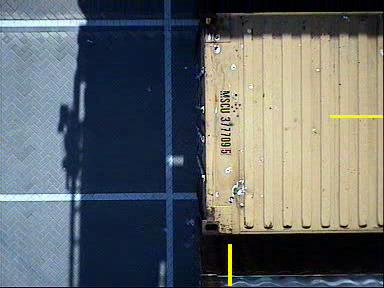groundmarker_2: (76, 63, 137, 105), (76, 229, 137, 271)
